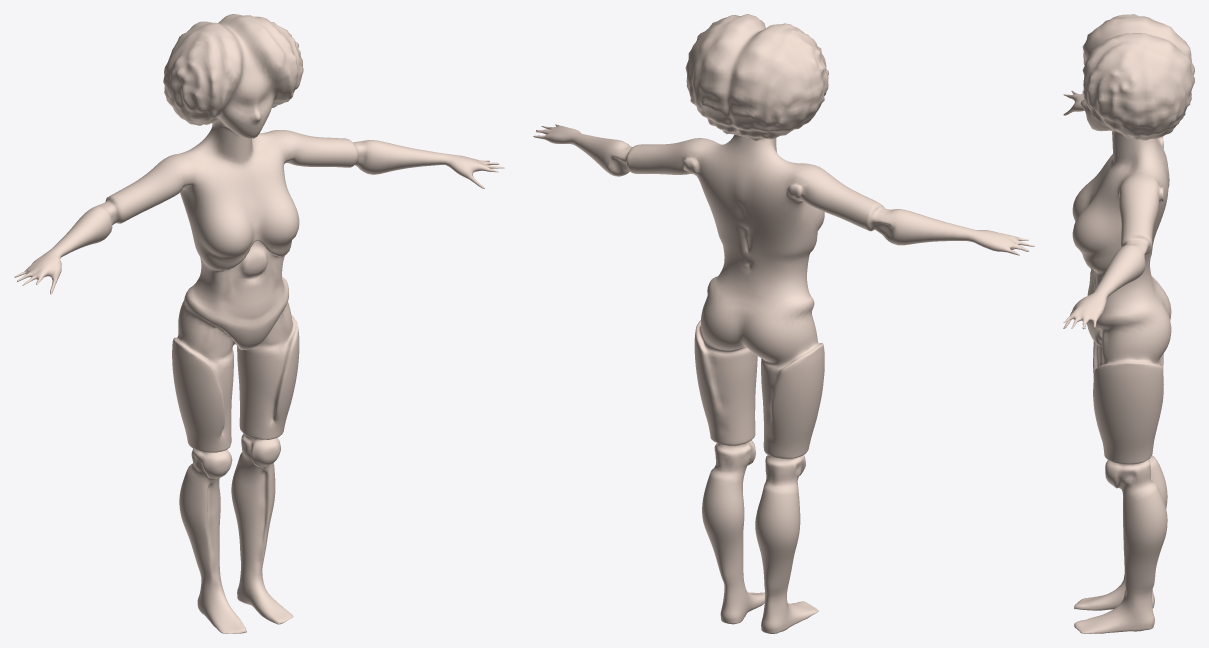
Rendered from athena_model.glb.
3 views of the same model, side by side, from view 1: azimuth 30°, elevation 25°; view 2: azimuth 150°, elevation 25°; view 3: azimuth 270°, elevation 25° (orthographic). The views are drawn at different scales.
Visible parts, largest first — view 1: athena; view 2: athena; view 3: athena.
Part boxes in pixels (x1,y1,x2,y2): athena: (14, 14, 504, 633); athena: (533, 14, 1034, 633); athena: (1063, 14, 1194, 633).
Bounding box in the file's own units: 1.64 × 1.9 × 0.3848.
